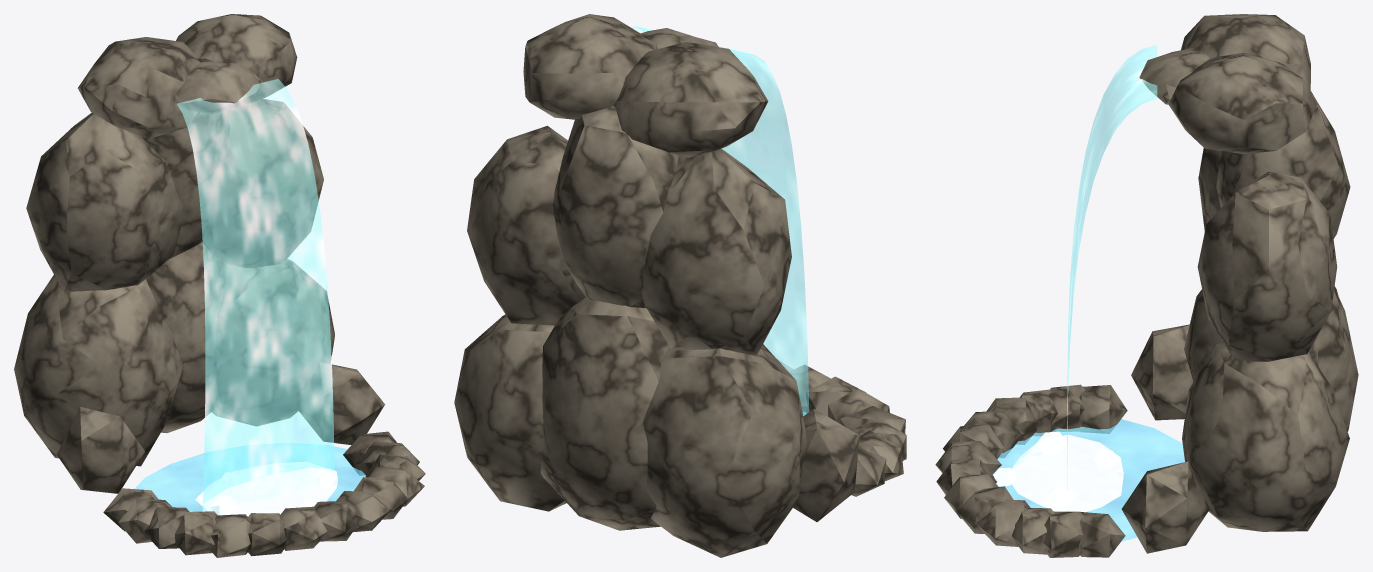
File: waterfall.glb
3 renders of one model, left to right at view 1: azimuth 30°, elevation 25°; view 2: azimuth 150°, elevation 25°; view 3: azimuth 270°, elevation 25°, orthographic. The views are drawn at different scales.
Visible parts, largest first — view 1: Rocks, Water, Pool, Splash; view 2: Rocks, Water; view 3: Rocks, Splash, Pool, Water.
Part boxes in pixels (x1=…): Rocks: x1=14, y1=14, x2=425, y2=557; Water: x1=177, y1=79, x2=334, y2=511; Pool: x1=134, y1=443, x2=365, y2=511; Splash: x1=195, y1=461, x2=337, y2=516; Rocks: x1=454, y1=14, x2=906, y2=557; Water: x1=631, y1=26, x2=809, y2=415; Rocks: x1=935, y1=14, x2=1358, y2=557; Splash: x1=993, y1=431, x2=1123, y2=512; Pool: x1=992, y1=419, x2=1184, y2=541; Water: x1=1067, y1=45, x2=1157, y2=489.
Bounding box in the file's own units: 1.2 × 1.58 × 1.33.
4 materials, 4 textured.
